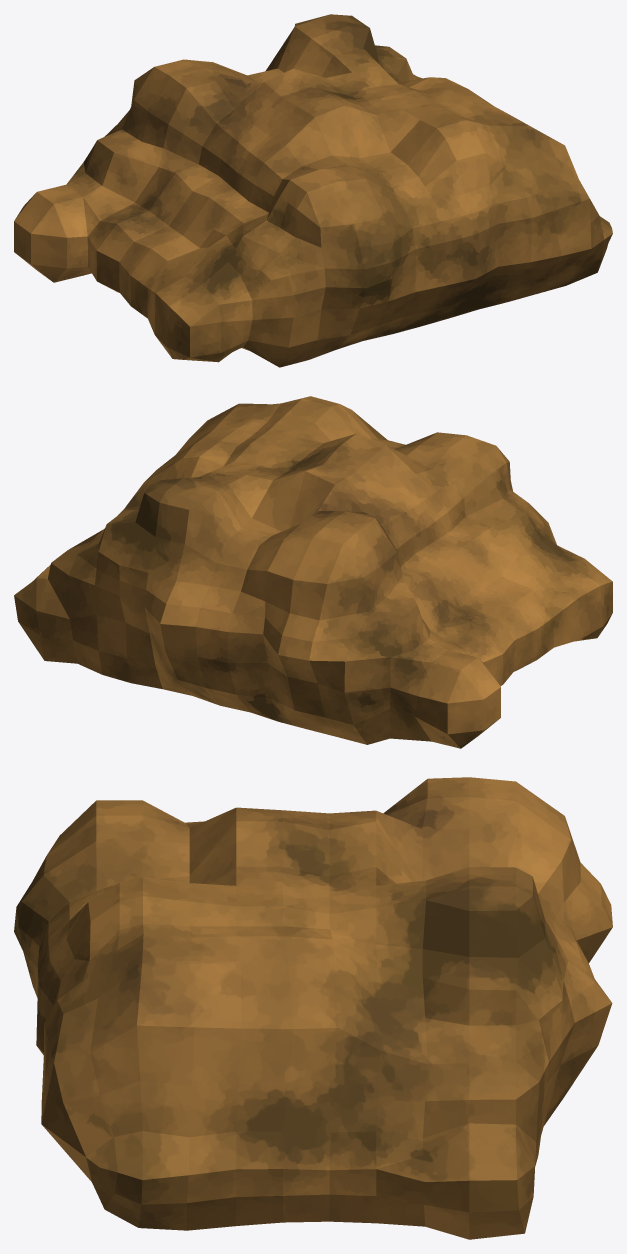
File: Derrumbe.fbx
The picture shows the model from 3 angles, top to bottom: view 1: azimuth 30°, elevation 25°; view 2: azimuth 150°, elevation 25°; view 3: azimuth 270°, elevation 25°; orthographic projection. The views are drawn at different scales.
Visible parts, largest first — view 1: Mball.061; view 2: Mball.061; view 3: Mball.061.
Boxes of the visible parts, x1,y1,x2,y2 form: Mball.061: (14,14,612,367); Mball.061: (14,396,612,748); Mball.061: (14,777,612,1239).
Size of the model in its own units: 1293 by 539 by 1043.
1 material, 1 textured.
